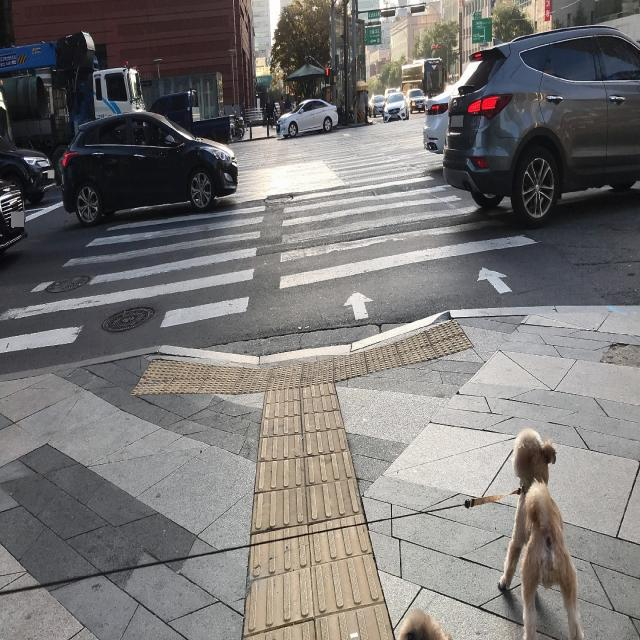빨간불: (324, 68, 330, 84)
횡단보도: (4, 134, 534, 340)
